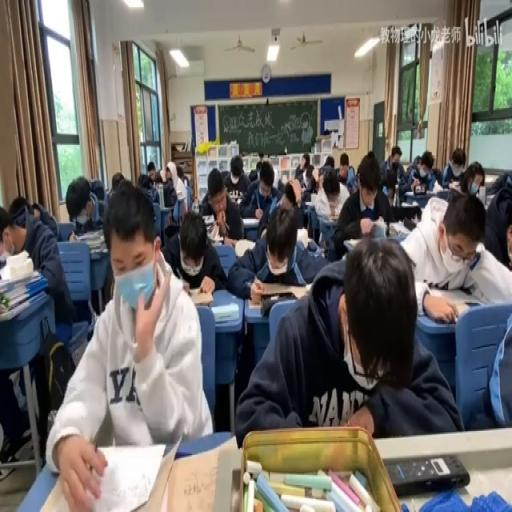calculator: (35, 432, 176, 510), (160, 438, 238, 512), (248, 282, 310, 308), (346, 230, 398, 249), (210, 300, 238, 322), (388, 218, 418, 236), (188, 287, 214, 307), (233, 236, 254, 256), (222, 233, 238, 246), (204, 219, 216, 235), (241, 214, 259, 224), (208, 232, 222, 244), (400, 202, 419, 210), (309, 192, 318, 205), (154, 181, 165, 186)
paper: (234, 235, 458, 445), (0, 196, 73, 460), (398, 188, 510, 314), (165, 208, 233, 296), (467, 301, 512, 431), (310, 168, 349, 247), (64, 175, 106, 239), (266, 174, 308, 234), (404, 148, 438, 195), (219, 155, 248, 206), (29, 199, 61, 242), (380, 145, 406, 192), (442, 147, 466, 189), (154, 165, 178, 206), (0, 220, 21, 259), (336, 151, 356, 189), (136, 172, 158, 205), (8, 195, 30, 225), (484, 171, 511, 195), (356, 151, 378, 179), (292, 153, 307, 185), (305, 168, 317, 193), (470, 172, 483, 192), (270, 162, 280, 188), (110, 172, 125, 189), (430, 166, 442, 185), (176, 165, 186, 185), (406, 162, 417, 176), (324, 155, 334, 169), (248, 169, 258, 182), (146, 161, 155, 175), (255, 161, 262, 175), (414, 155, 422, 164)
person: (385, 452, 470, 494), (412, 182, 426, 193)
